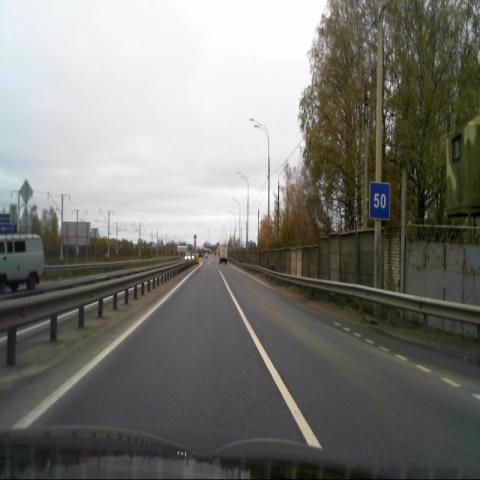6_2: (369, 182, 390, 221)
